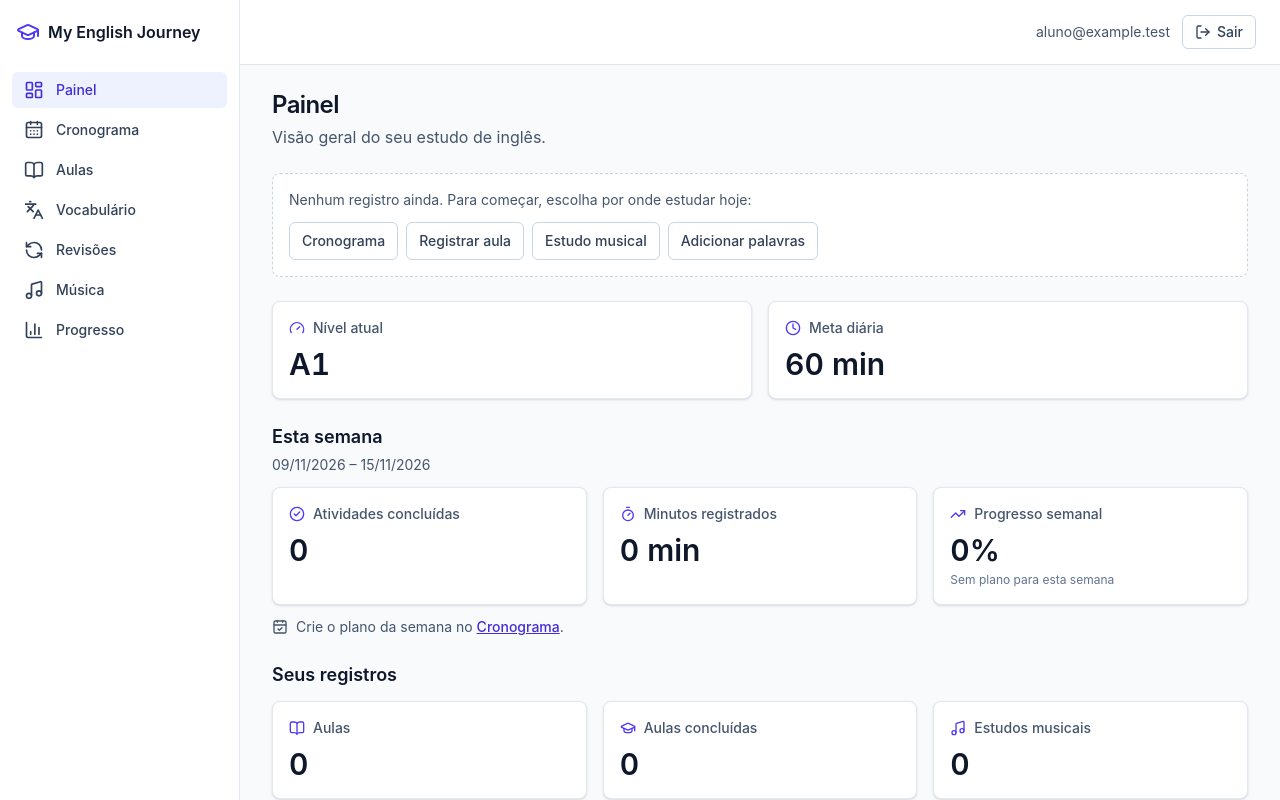
Rotas e autenticação › 3. logout elimina o acesso à rota privada
This screenshot has width=1280, height=800.
Expected: the heading "Painel" is shown, [272,90,339,119]
Click the button "Sair". click: click(1219, 32)
box: [1182,15,1256,49]
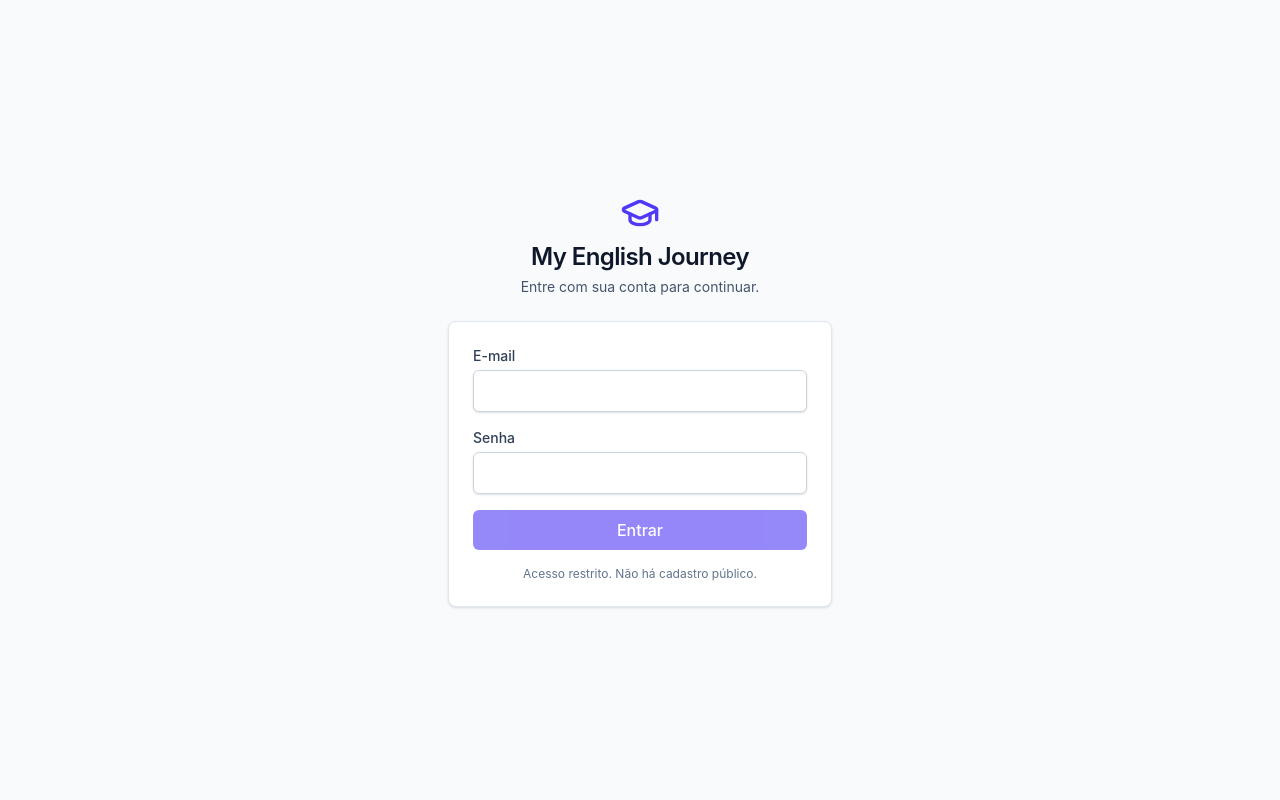
Expected: the button "Entrar" is shown, [473,510,807,550]
